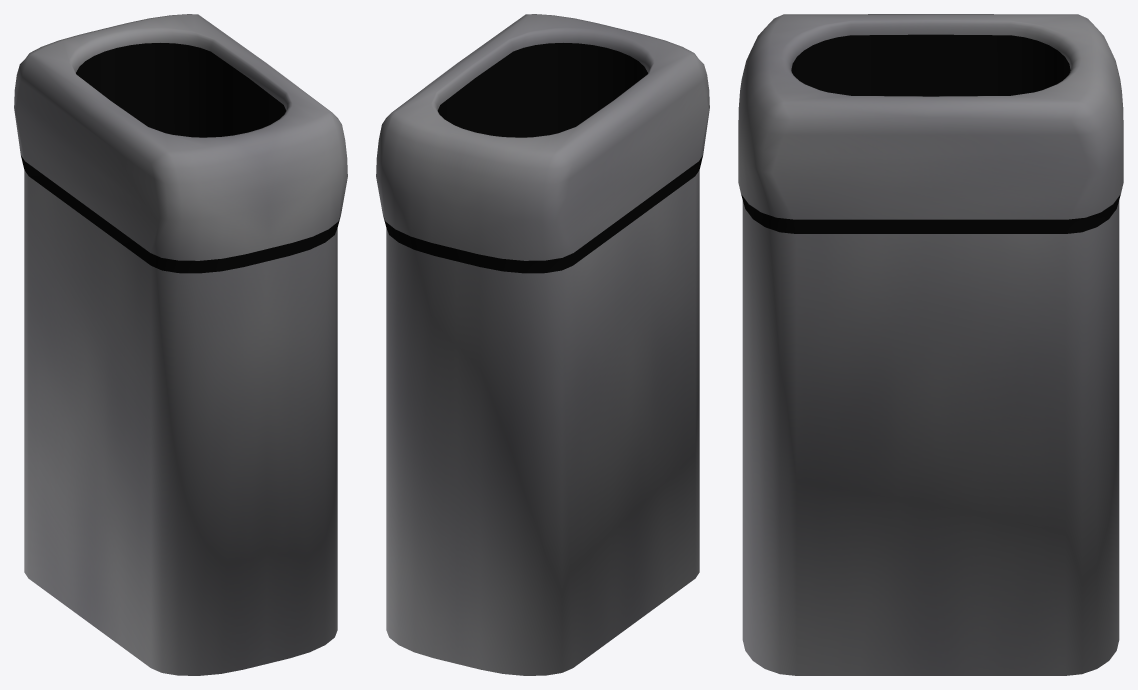
The model's file is trashcan.glb.
3 views of the same model, side by side, from view 1: azimuth 30°, elevation 25°; view 2: azimuth 150°, elevation 25°; view 3: azimuth 270°, elevation 25° (orthographic). The views are drawn at different scales.
Visible parts, largest first — view 1: trashCan; view 2: trashCan; view 3: trashCan.
Part boxes in pixels (box(x1,y1,x2,y2)): trashCan: box(14, 14, 347, 675); trashCan: box(376, 14, 709, 675); trashCan: box(738, 14, 1123, 675).
Bounding box in the file's own units: 0.2762 × 0.7331 × 0.4501.
Materials: 1 (1 with a texture image).
